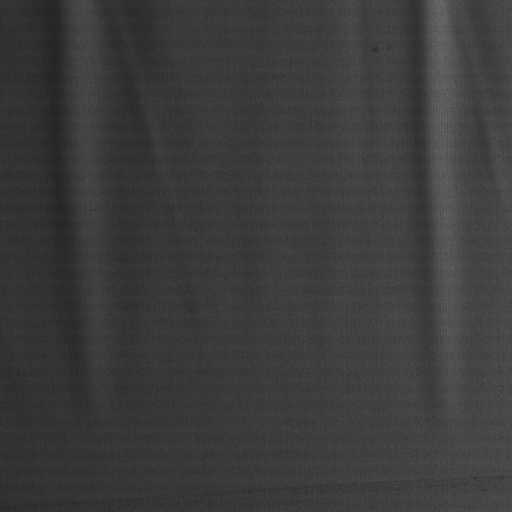defect: (3, 470, 512, 503)
